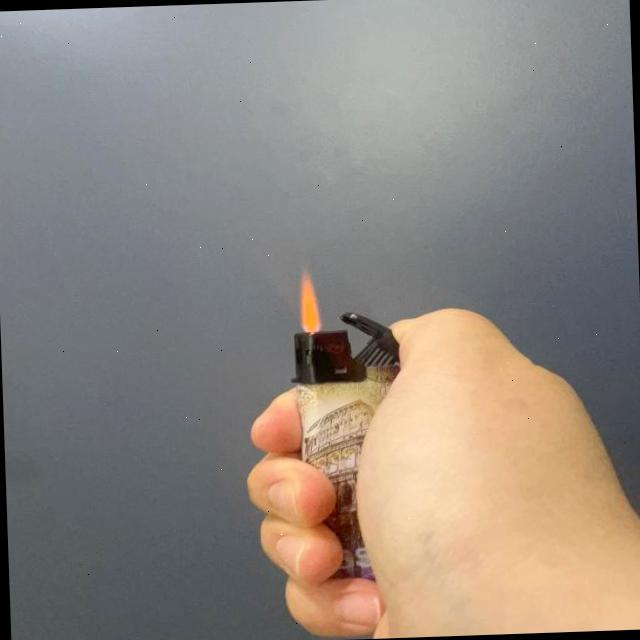fire: (292, 262, 322, 334)
